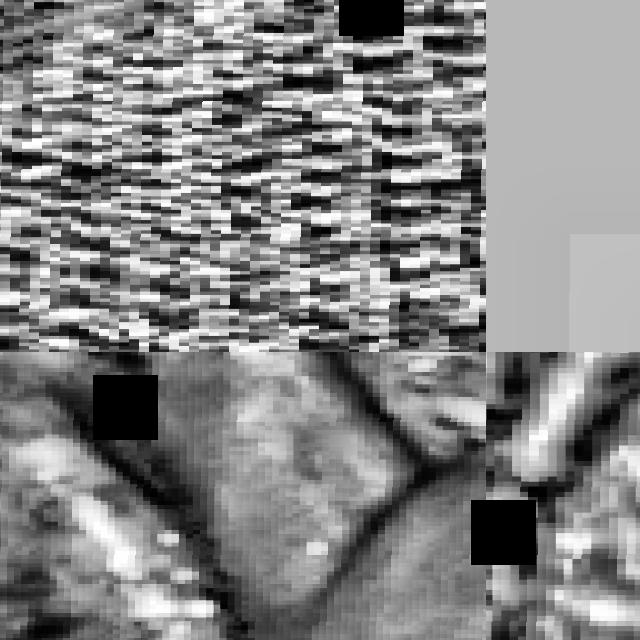crab: (486, 0, 640, 352), (486, 352, 640, 640)
fish: (0, 0, 486, 352), (0, 352, 486, 640)
